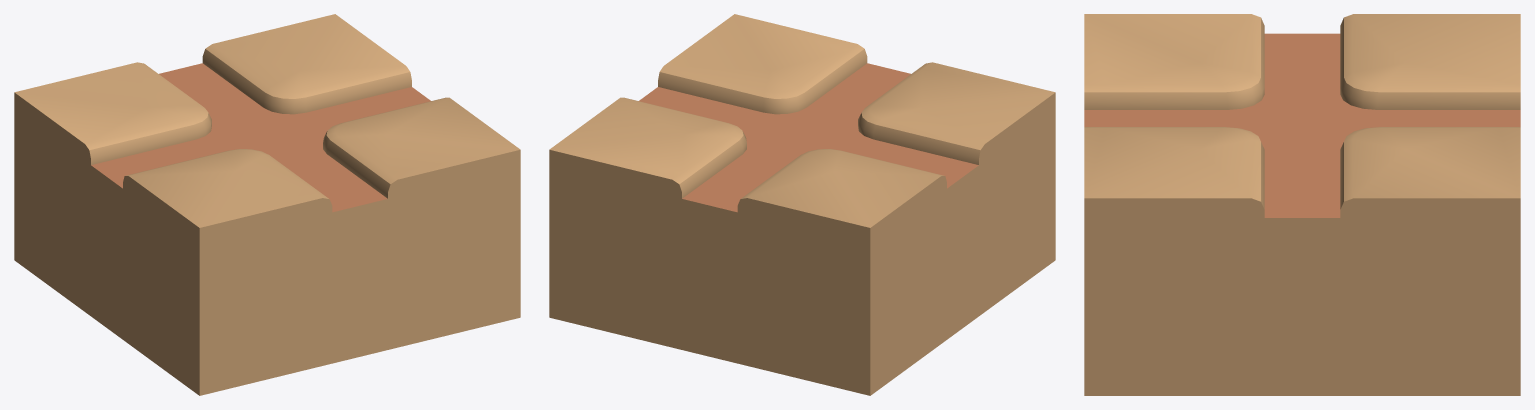
The model's file is square_sand_roadE.glb.
The picture shows the model from 3 angles, left to right: view 1: azimuth 30°, elevation 25°; view 2: azimuth 150°, elevation 25°; view 3: azimuth 270°, elevation 25°; orthographic projection. The views are drawn at different scales.
Parts seen in each view (by area): view 1: square_sand_roadE; view 2: square_sand_roadE; view 3: square_sand_roadE.
Boxes of the visible parts, x1=… form: square_sand_roadE: x1=14, y1=14, x2=520, y2=395; square_sand_roadE: x1=549, y1=14, x2=1055, y2=395; square_sand_roadE: x1=1084, y1=14, x2=1520, y2=395.
Bounding box in the file's own units: 2 × 1 × 2.
